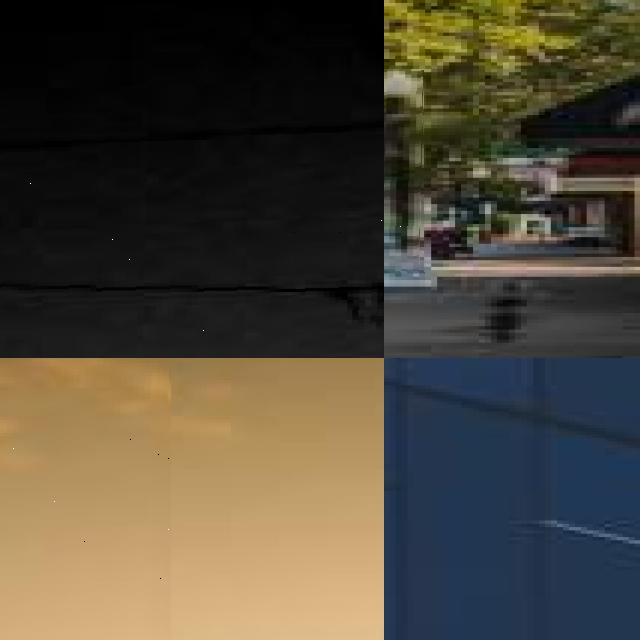street light: (0, 0, 384, 358), (0, 358, 171, 640), (384, 68, 425, 272), (467, 171, 491, 244)
